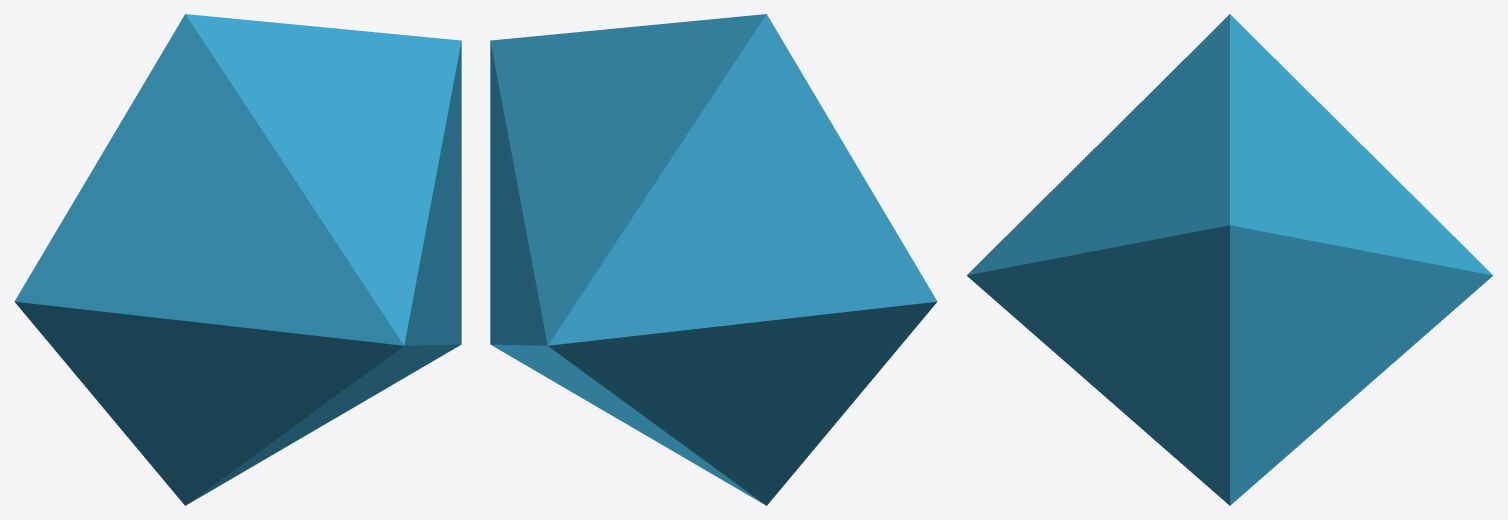
The model's file is decahedron.fbx.
The picture shows the model from 3 angles, left to right: view 1: azimuth 30°, elevation 25°; view 2: azimuth 150°, elevation 25°; view 3: azimuth 270°, elevation 25°; orthographic projection. The views are drawn at different scales.
Parts seen in each view (by area): view 1: Decahedron; view 2: Decahedron; view 3: Decahedron.
Boxes of the visible parts, x1,y1,x2,y2 form: Decahedron: (14,14,461,505); Decahedron: (490,14,937,505); Decahedron: (967,14,1492,505).
Bounding box in the file's own units: 166 × 174 × 183.
